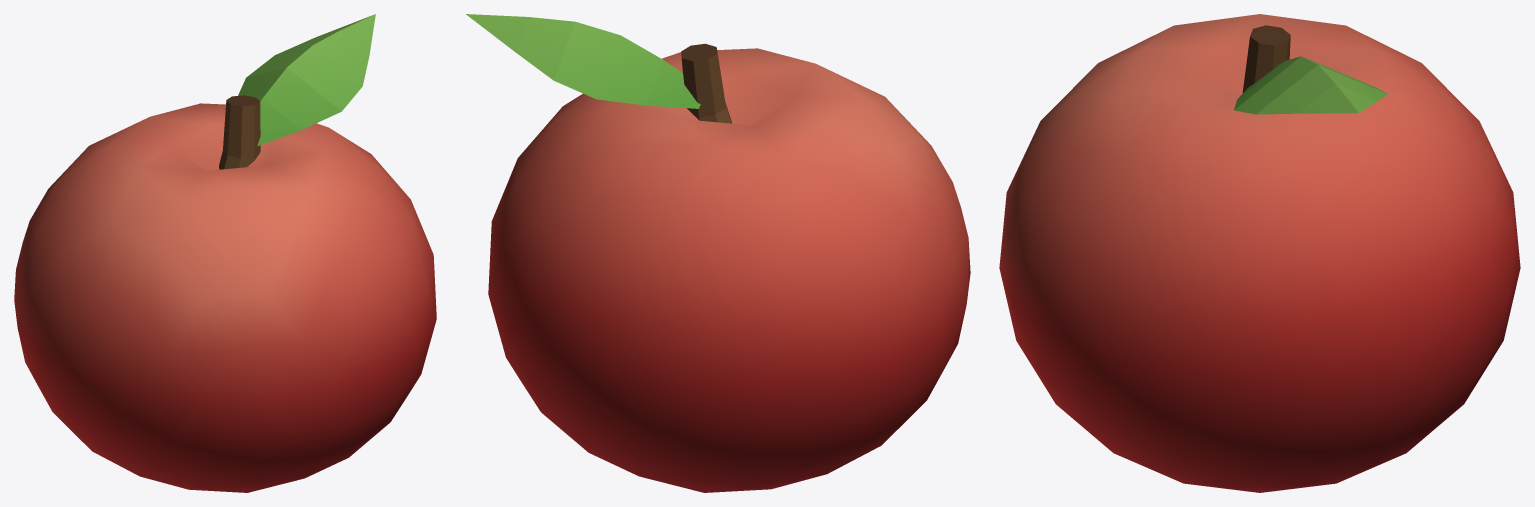
File: food_fruit_v3_a.fbx
The picture shows the model from 3 angles, left to right: view 1: azimuth 30°, elevation 25°; view 2: azimuth 150°, elevation 25°; view 3: azimuth 270°, elevation 25°; orthographic projection. The views are drawn at different scales.
Visible parts, largest first — view 1: food_fruit_v3_a; view 2: food_fruit_v3_a; view 3: food_fruit_v3_a.
Part boxes in pixels (<box>): food_fruit_v3_a: <box>14,14,436,492</box>; food_fruit_v3_a: <box>466,14,970,492</box>; food_fruit_v3_a: <box>999,14,1520,492</box>.
Size of the model in its own units: 102 by 95.25 by 100.
